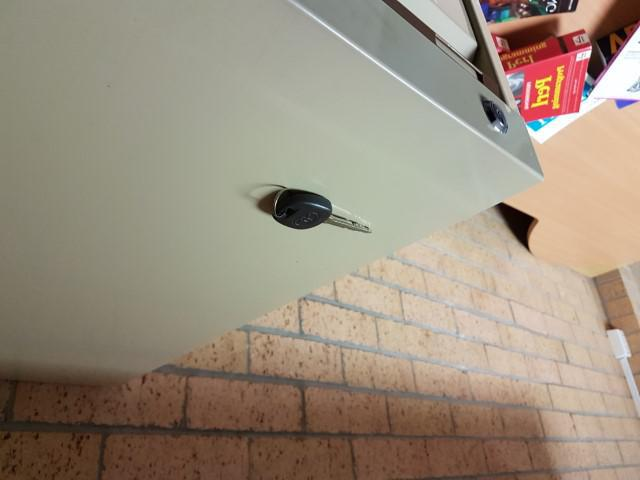key: (276, 188, 372, 235)
